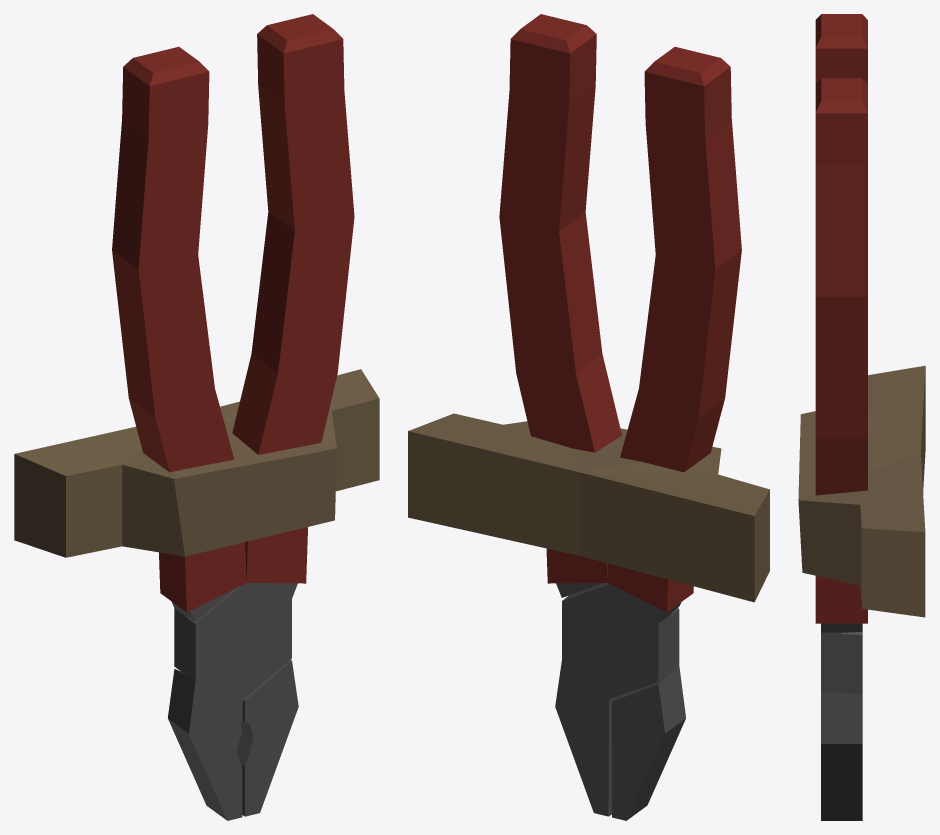
Rendered from SM_Chr_Attach_Tool_01.fbx.
3 renders of one model, left to right at view 1: azimuth 30°, elevation 25°; view 2: azimuth 150°, elevation 25°; view 3: azimuth 270°, elevation 25°, orthographic.
Visible parts, largest first — view 1: SM_Chr_Attach_Tool_01; view 2: SM_Chr_Attach_Tool_01; view 3: SM_Chr_Attach_Tool_01.
Boxes of the visible parts, <box> form: SM_Chr_Attach_Tool_01: <box>14,14,379,820</box>; SM_Chr_Attach_Tool_01: <box>408,14,769,820</box>; SM_Chr_Attach_Tool_01: <box>798,14,925,820</box>.
Size of the model in its own units: 11.73 by 24.76 by 3.77.
